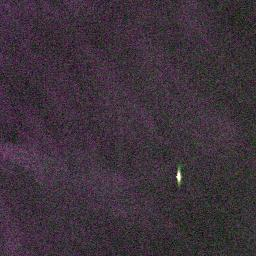Ship: (174, 166, 184, 184)
